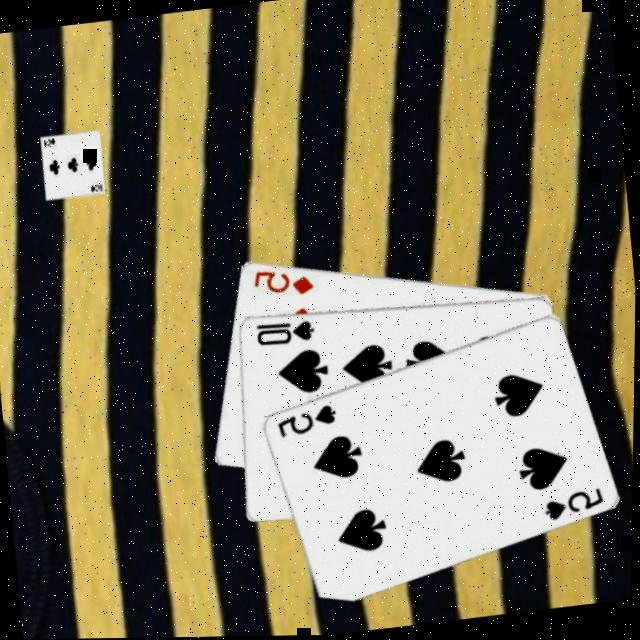10S: (250, 312, 318, 348)
5D: (248, 259, 316, 301)
5S: (272, 399, 340, 439), (539, 484, 607, 524)
